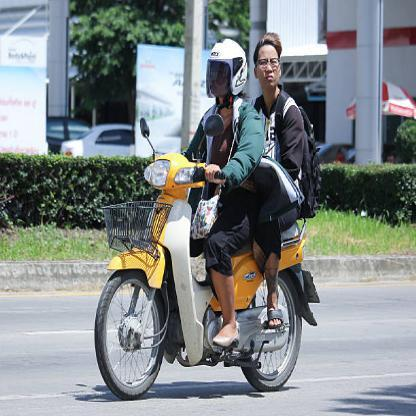Motorcycle: (97, 125, 311, 404)
